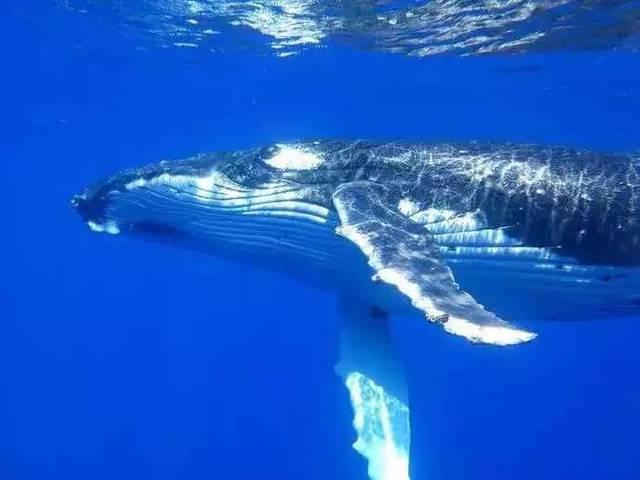fish: (66, 133, 640, 466)
